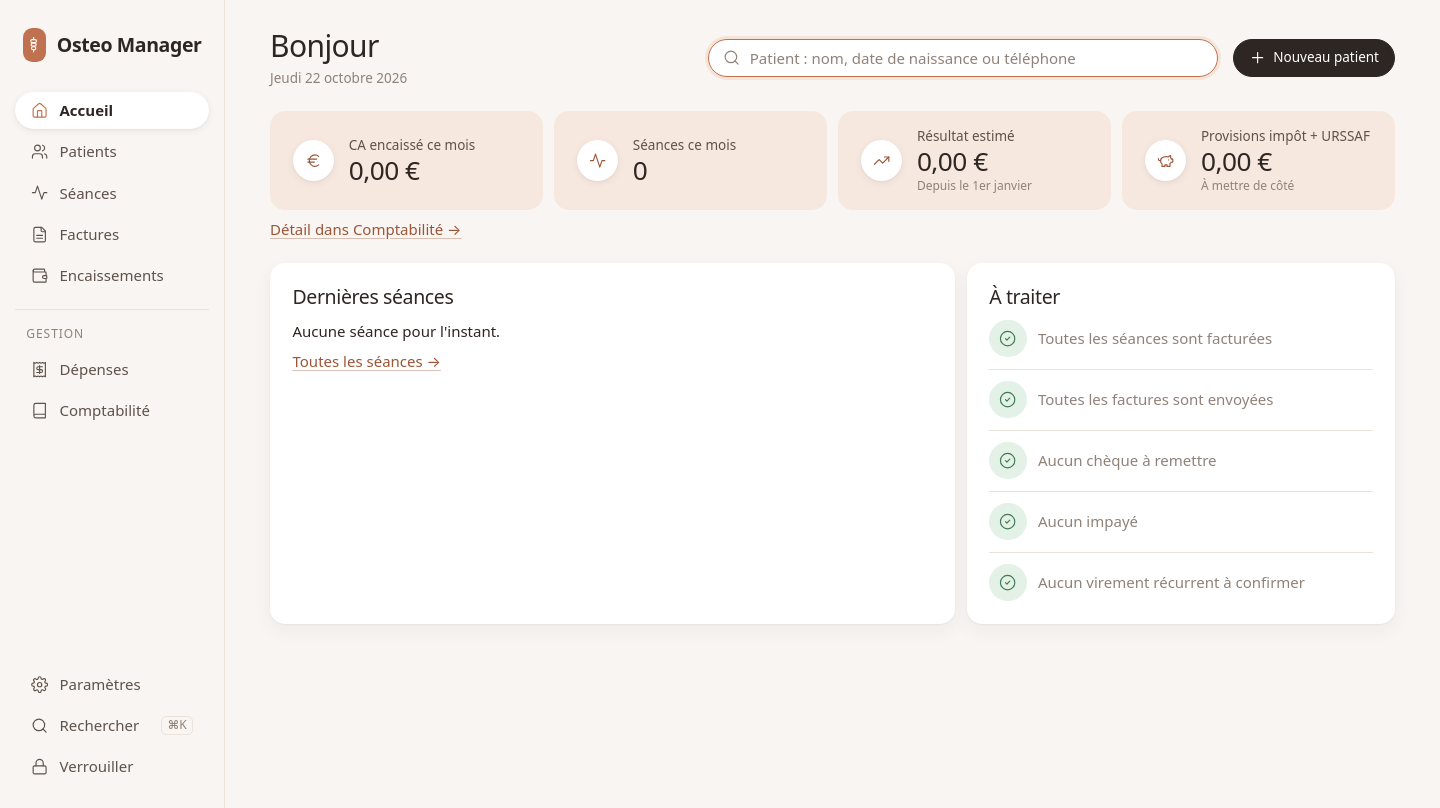
Test: port invalide refusé sans appel
Click the button "Paramètres". click: x=112, y=684
box: [15, 666, 209, 703]
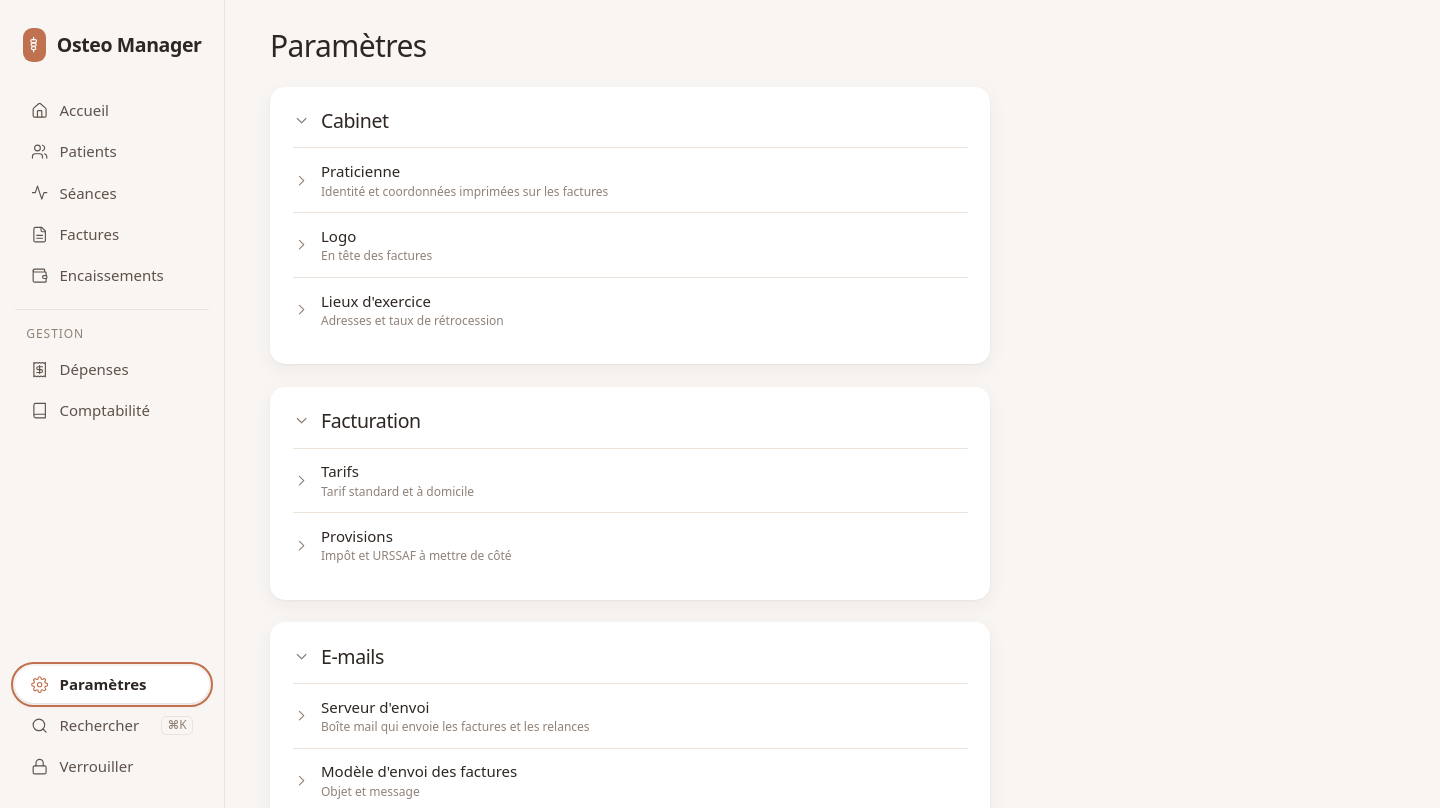
Click the heading "Serveur d'envoi". click: x=375, y=706
box: [321, 696, 429, 716]
(page scrolled)
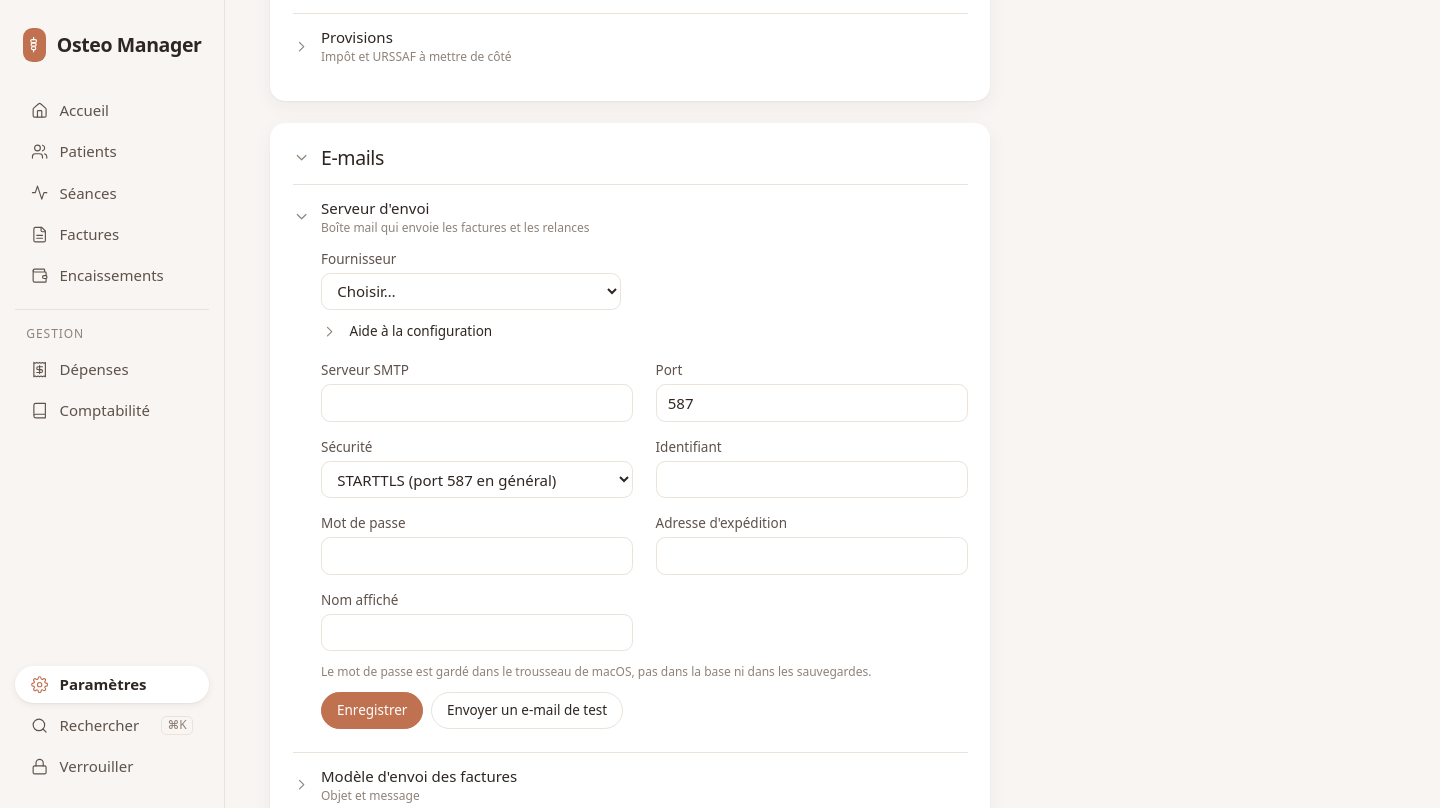
Replace the text in the field labelled "Port" with "abc". click: x=812, y=403
box: [656, 384, 968, 422]
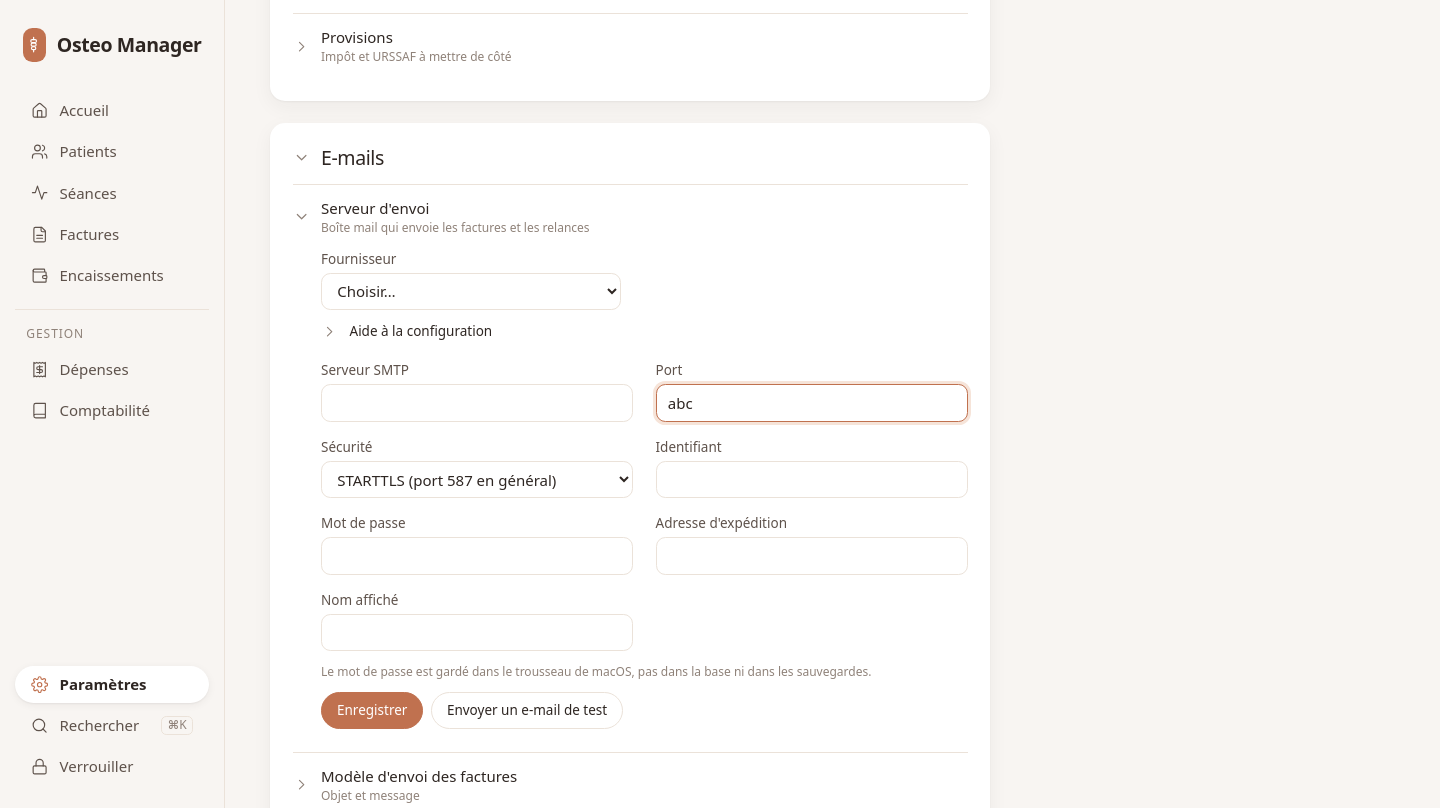
Click the button "Enregistrer". click: x=372, y=711
box: [321, 692, 423, 729]
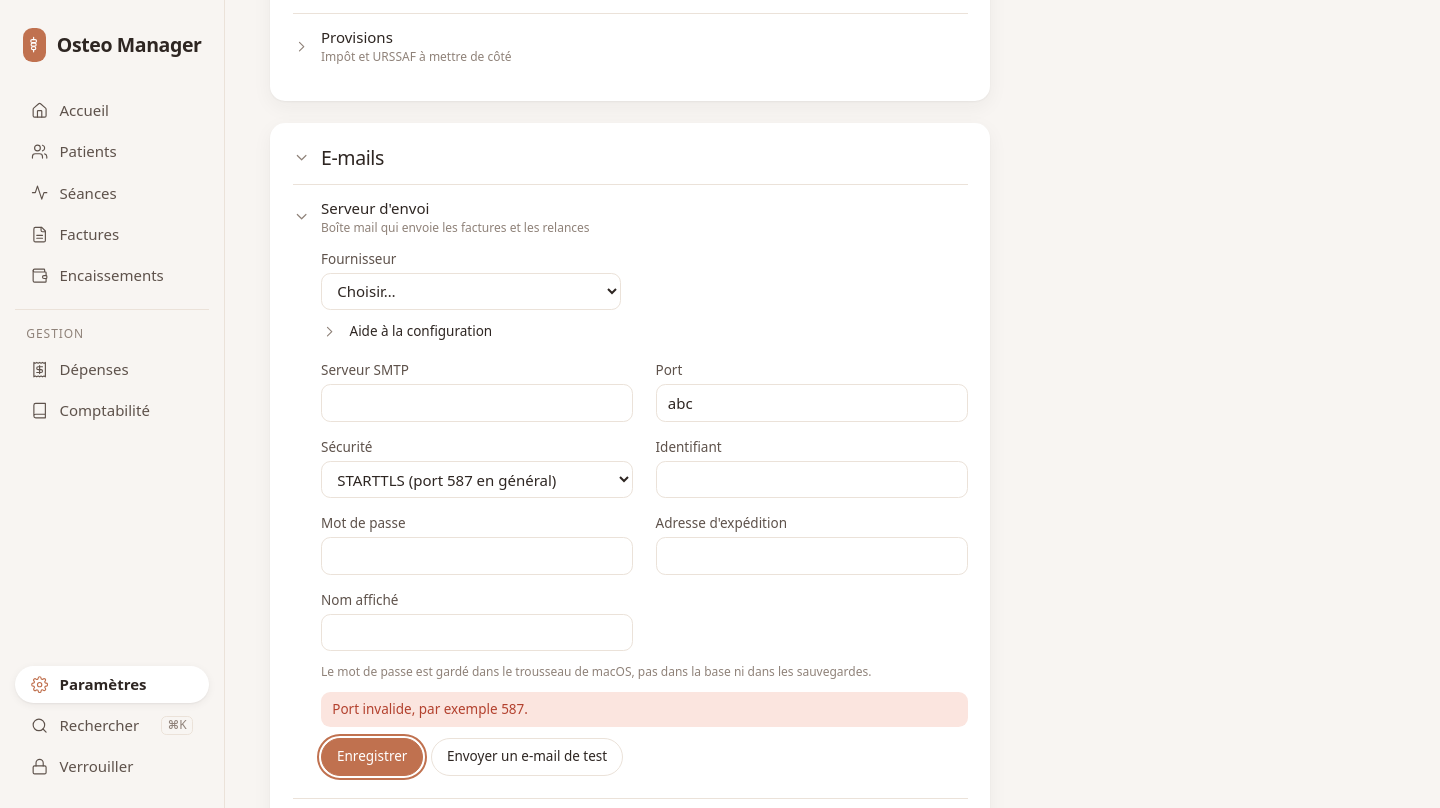
Check: the message shows "Port invalide", box [332, 700, 528, 718]
